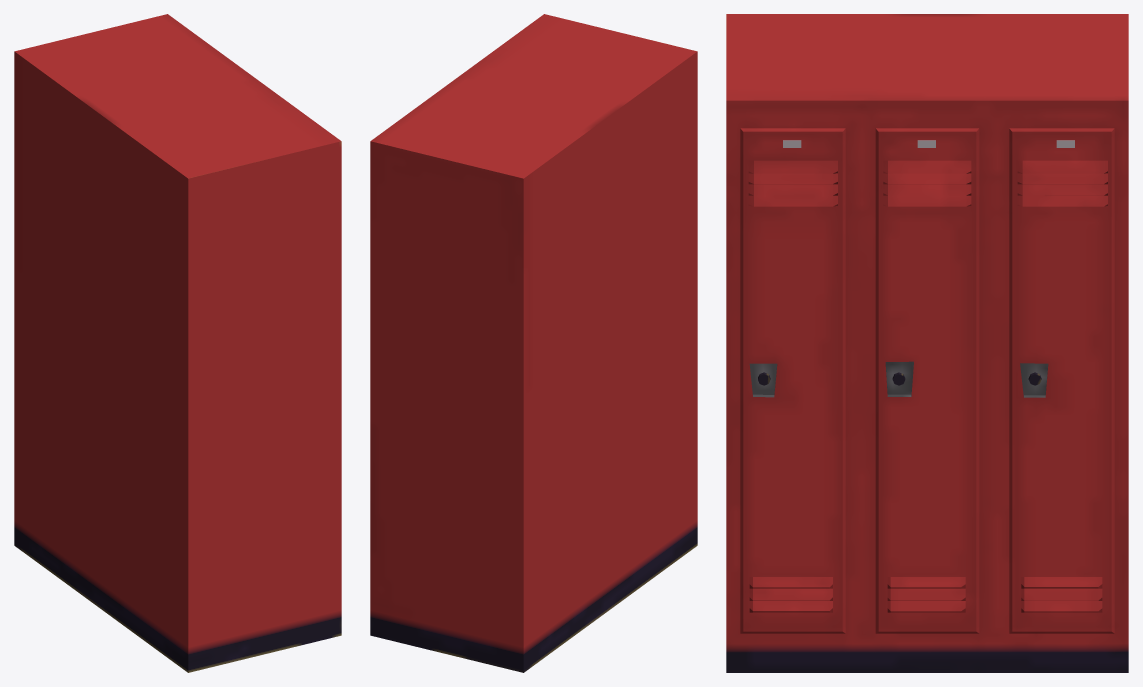
Rendered from School locker3.fbx.
3 views of the same model, side by side, from view 1: azimuth 30°, elevation 25°; view 2: azimuth 150°, elevation 25°; view 3: azimuth 270°, elevation 25° (orthographic). The views are drawn at different scales.
Visible parts, largest first — view 1: School locker3; view 2: School locker3; view 3: School locker3.
Part boxes in pixels (x1,y1,x2,y2): School locker3: [14, 14, 341, 672]; School locker3: [370, 14, 697, 672]; School locker3: [726, 14, 1128, 672].
Size of the model in its own units: 291 by 875 by 558.
1 material, 1 textured.
